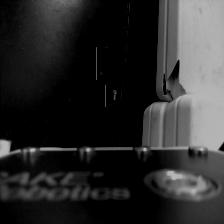Door Handle: (94, 49, 123, 78)
Lock: (105, 86, 120, 108)
